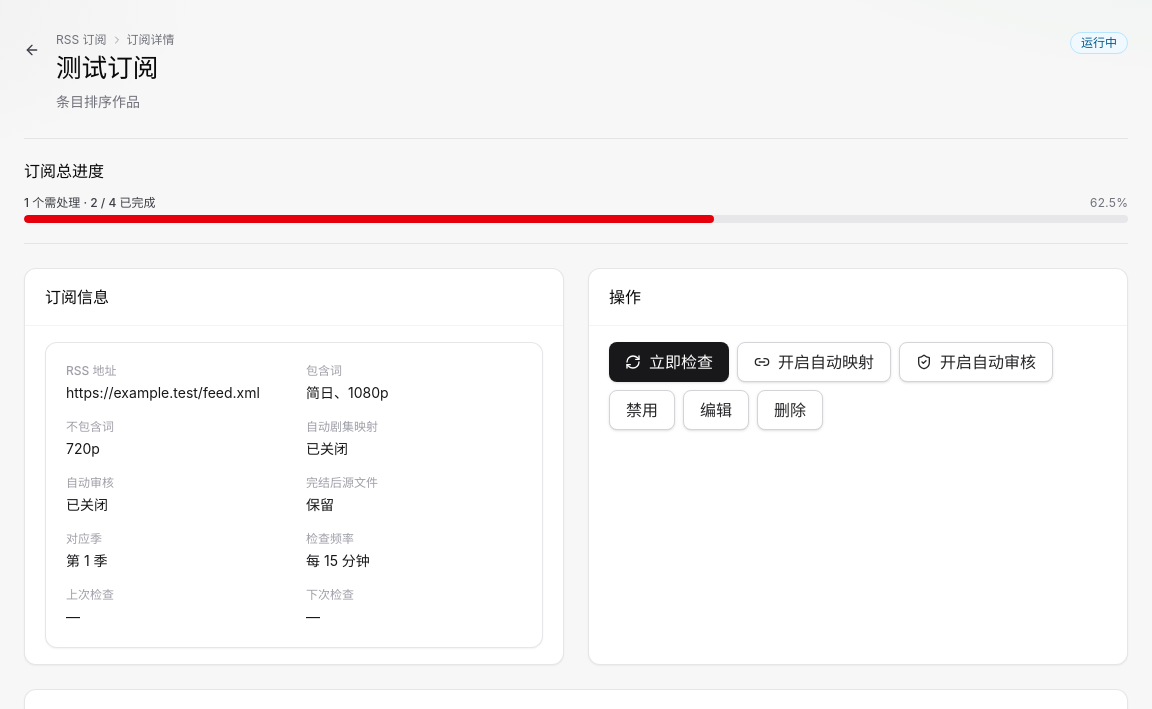
RssDetailPage entries › enables persistent automatic review from the subscription actions
The image size is (1152, 709).
Expected: the text "已关闭" below "自动剧集映射" is shown, top-left (306, 440), bottom-right (348, 457)
Step 1. Click the button "开启自动审核" → (976, 362), box top-left (899, 342), bottom-right (1053, 382)
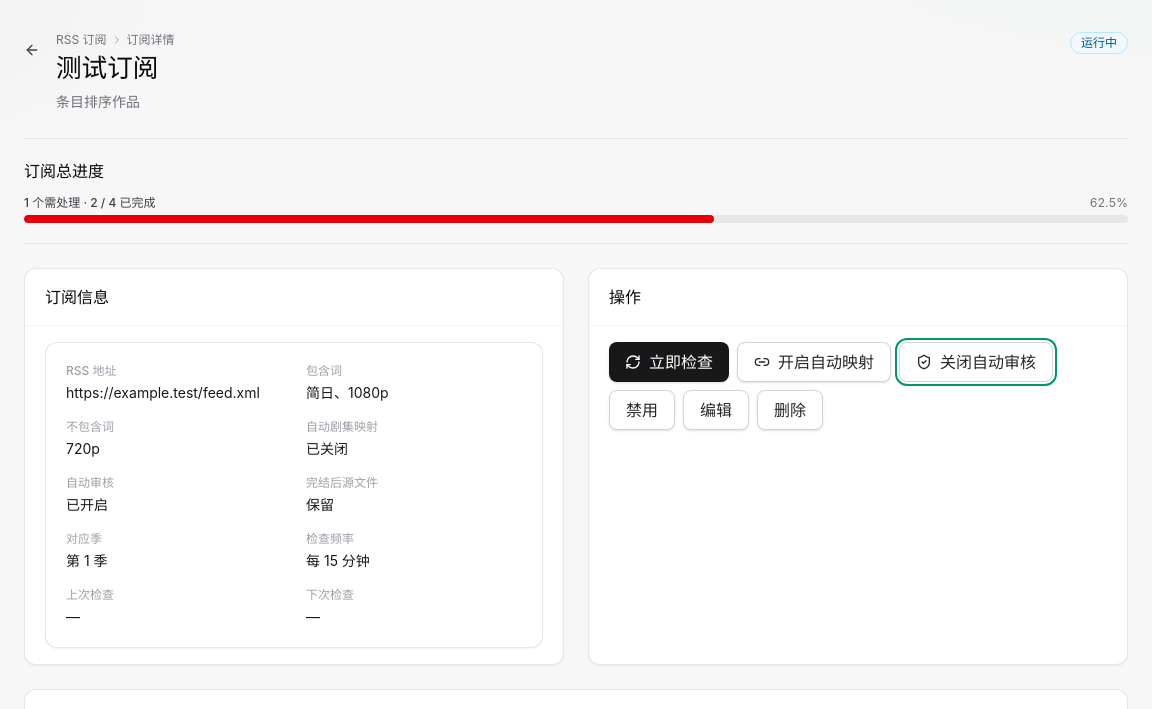
Now the button "关闭自动审核" is shown, box top-left (899, 342), bottom-right (1053, 382)
Now the text "已开启" is shown, box top-left (66, 496), bottom-right (108, 513)
